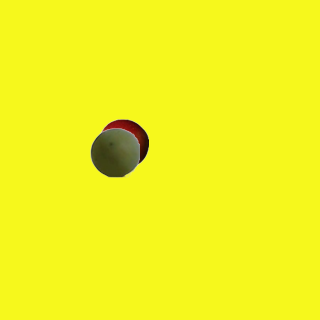Apple Braeburn: (98, 118, 148, 168)
Grape White 4: (89, 127, 139, 177)
